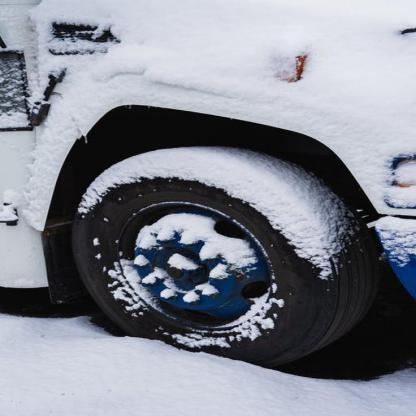Tire: (70, 143, 375, 369)
